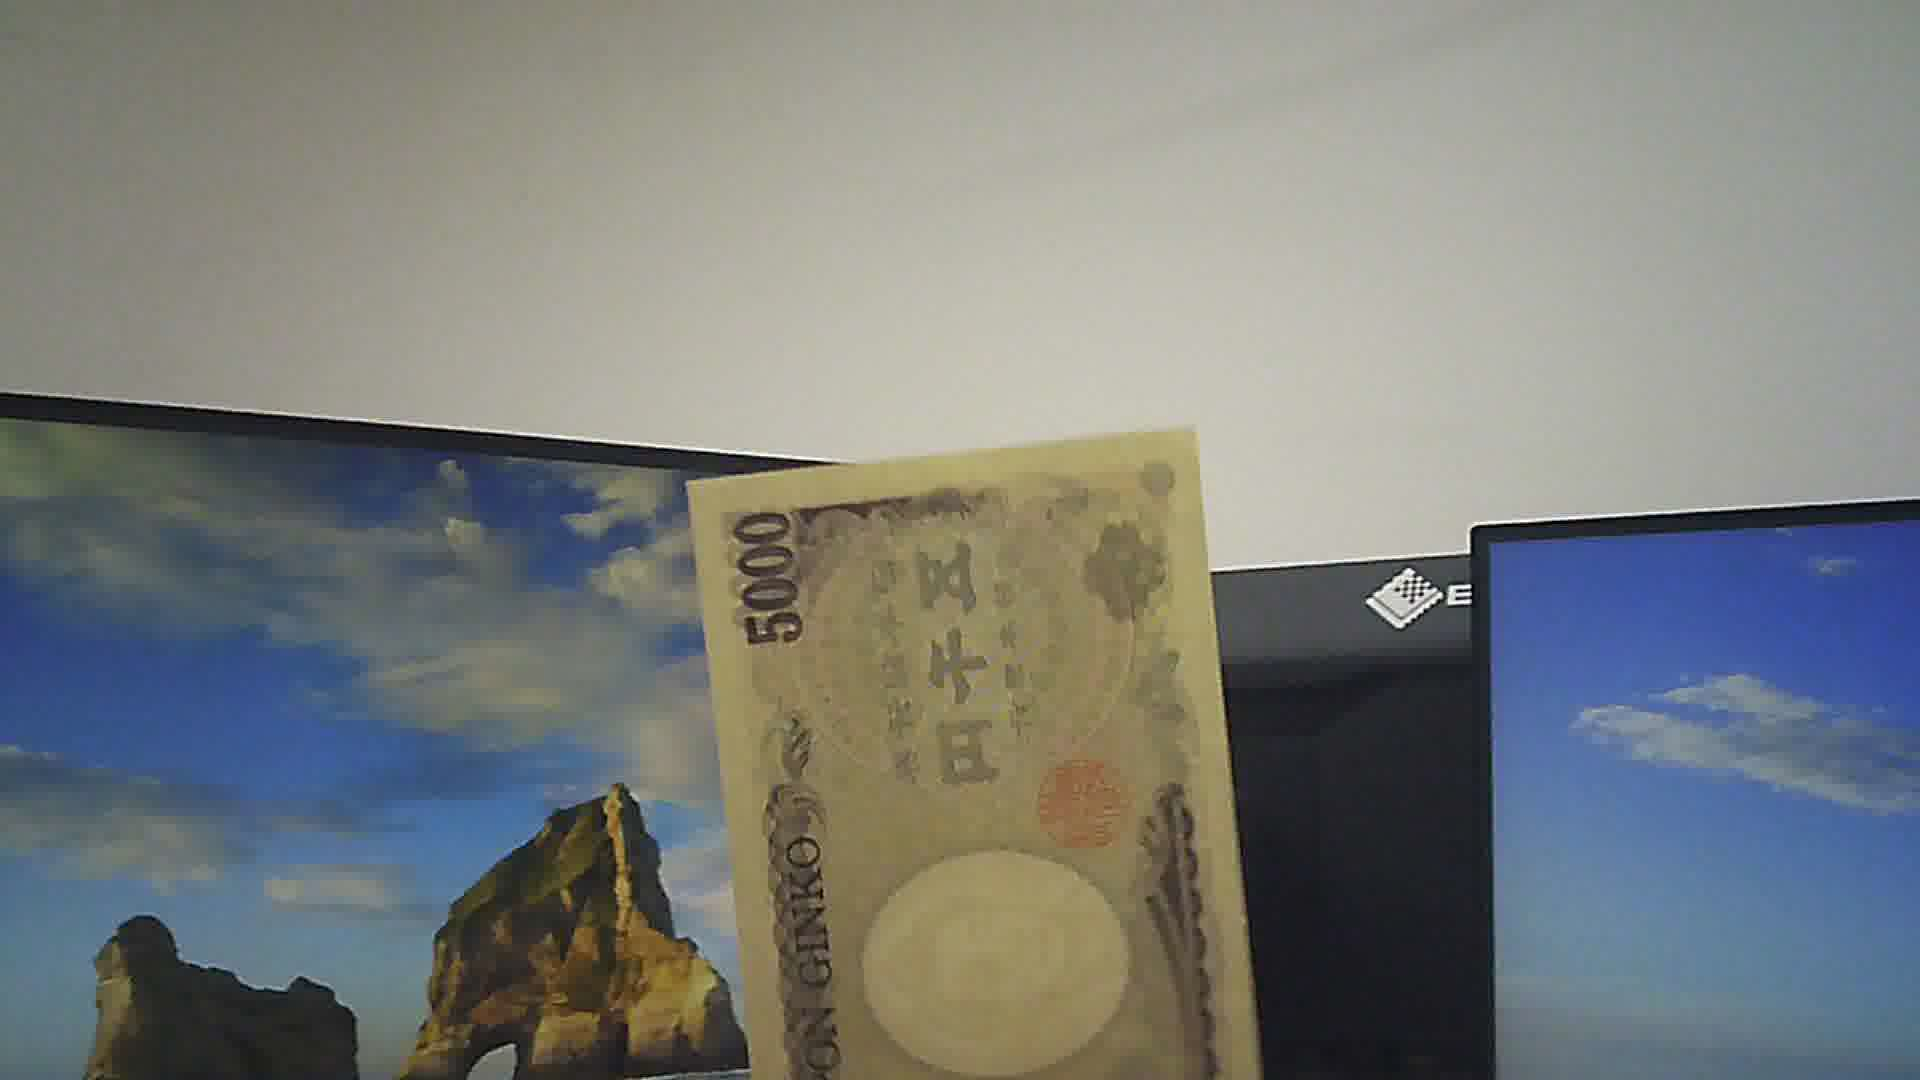5,000 Yen: (669, 436, 1270, 1077)
